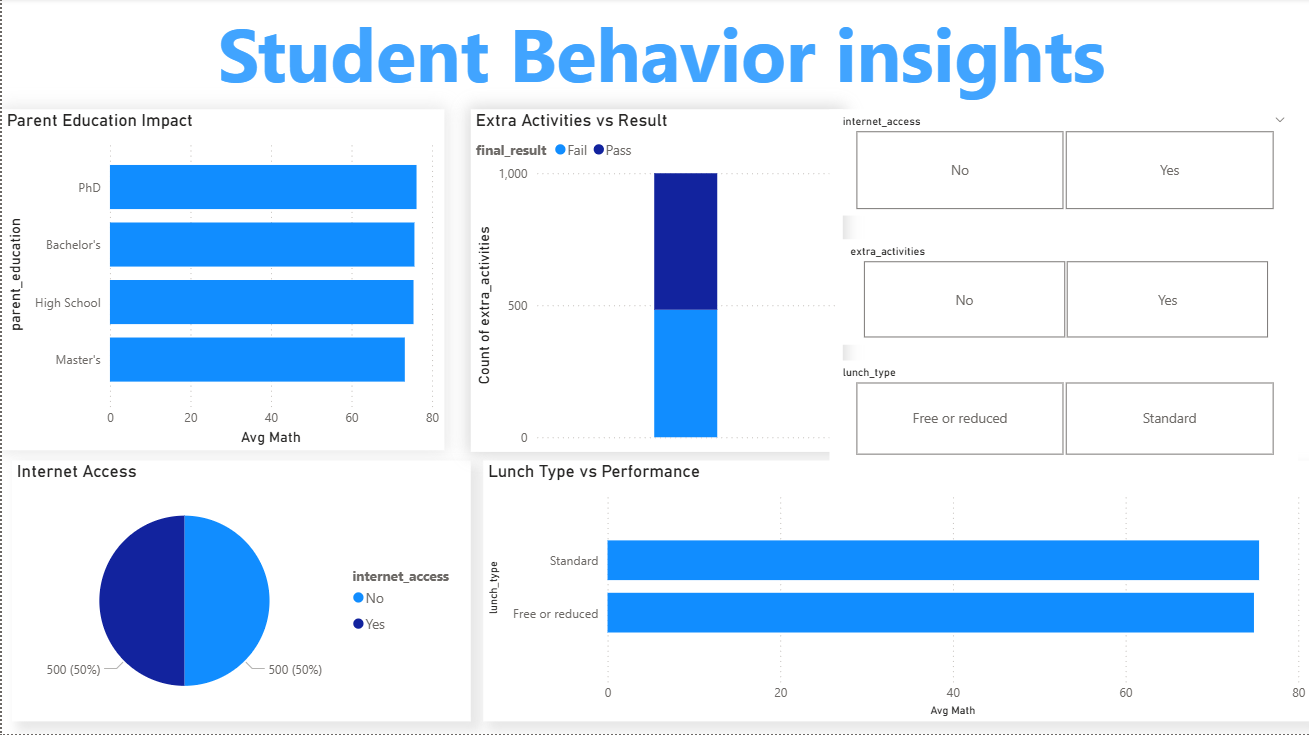

What the dashboard file says about the page in this screenshot:
{"tool":"powerbi","page":{"name":"Page 3","canvas":[1280,720],"ordinal":2},"visuals":[{"type":"textbox","box":[9.6,0,1270.7,108.4],"z":0},{"type":"clusteredBarChart","title":"Parent Education Impact","fields":{"Category":["student_info.parent_education"],"Y":["student_info.Avg Math"]},"box":[0,108.8,432.9,333.8],"z":1000},{"type":"pieChart","title":"Internet Access","fields":{"Category":["student_info.internet_access"],"Y":["student_info.Total Students"]},"box":[9.8,452.4,448.8,255.6],"z":2000},{"type":"columnChart","title":"Extra Activities vs Result","fields":{"Y":["CountNonNull(student_info.extra_activities)"],"Series":["student_info.final_result"]},"box":[458.3,108.4,363.6,334.8],"z":3000},{"type":"clusteredBarChart","title":"Lunch Type vs Performance","fields":{"Category":["student_info.lunch_type"],"Y":["student_info.Avg Math"]},"box":[470.8,452.4,809.5,255.6],"z":4000},{"type":"slicer","fields":{"Values":["student_info.internet_access"]},"box":[809.6,108.4,458.3,104.3],"z":5000},{"type":"slicer","fields":{"Values":["student_info.extra_activities"]},"box":[816.5,236,446,102.9],"z":6000},{"type":"slicer","fields":{"Values":["student_info.lunch_type"]},"box":[809.6,354,458.3,98.8],"z":7000}]}

Visuals, with their boxes in screenshot pixels (x1, y1, x2, y2), scaled from the page's 1280x720 canvas onto the 1309x735 screenshot:
textbox: (10, 0, 1308, 111)
"Parent Education Impact" clusteredBarChart: (0, 111, 443, 452)
"Internet Access" pieChart: (10, 462, 469, 723)
"Extra Activities vs Result" columnChart: (469, 111, 841, 452)
"Lunch Type vs Performance" clusteredBarChart: (481, 462, 1308, 723)
slicer - student_info.internet_access: (828, 111, 1297, 217)
slicer - student_info.extra_activities: (835, 241, 1291, 346)
slicer - student_info.lunch_type: (828, 361, 1297, 462)
